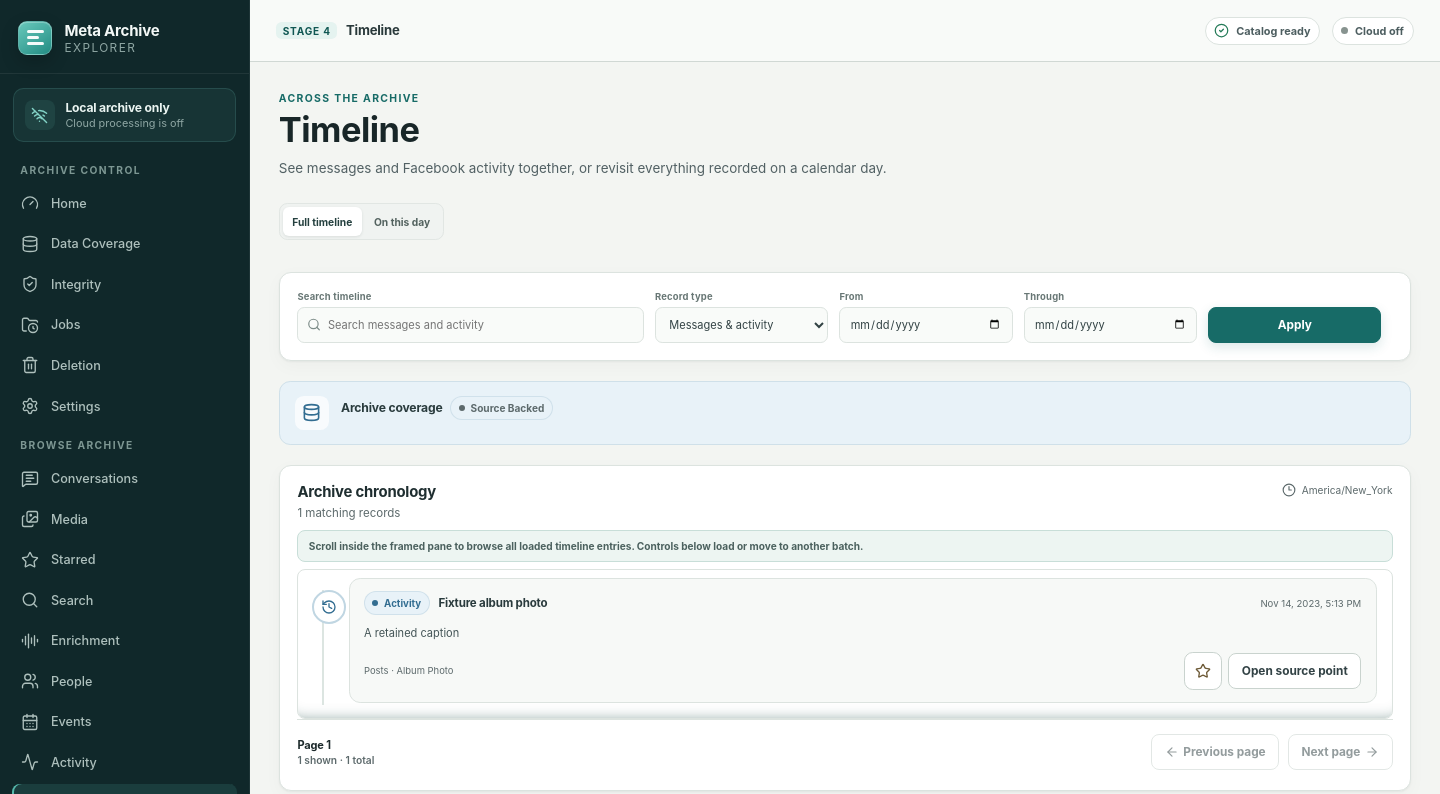
Scenario: Stage 4 archive views › switches between the combined timeline and On This Day
This screenshot has width=1440, height=794.
Expected: the heading "Archive chronology" is shown, [297,483,436,501]
Expected: the text with id "timeline-results-scroll-hint" shows "Scroll inside the framed pane to browse all loaded timeline entries.", [297,530,1393,562]
Step 1. Click the button "On this day" → (402,222), box [365,207,439,236]
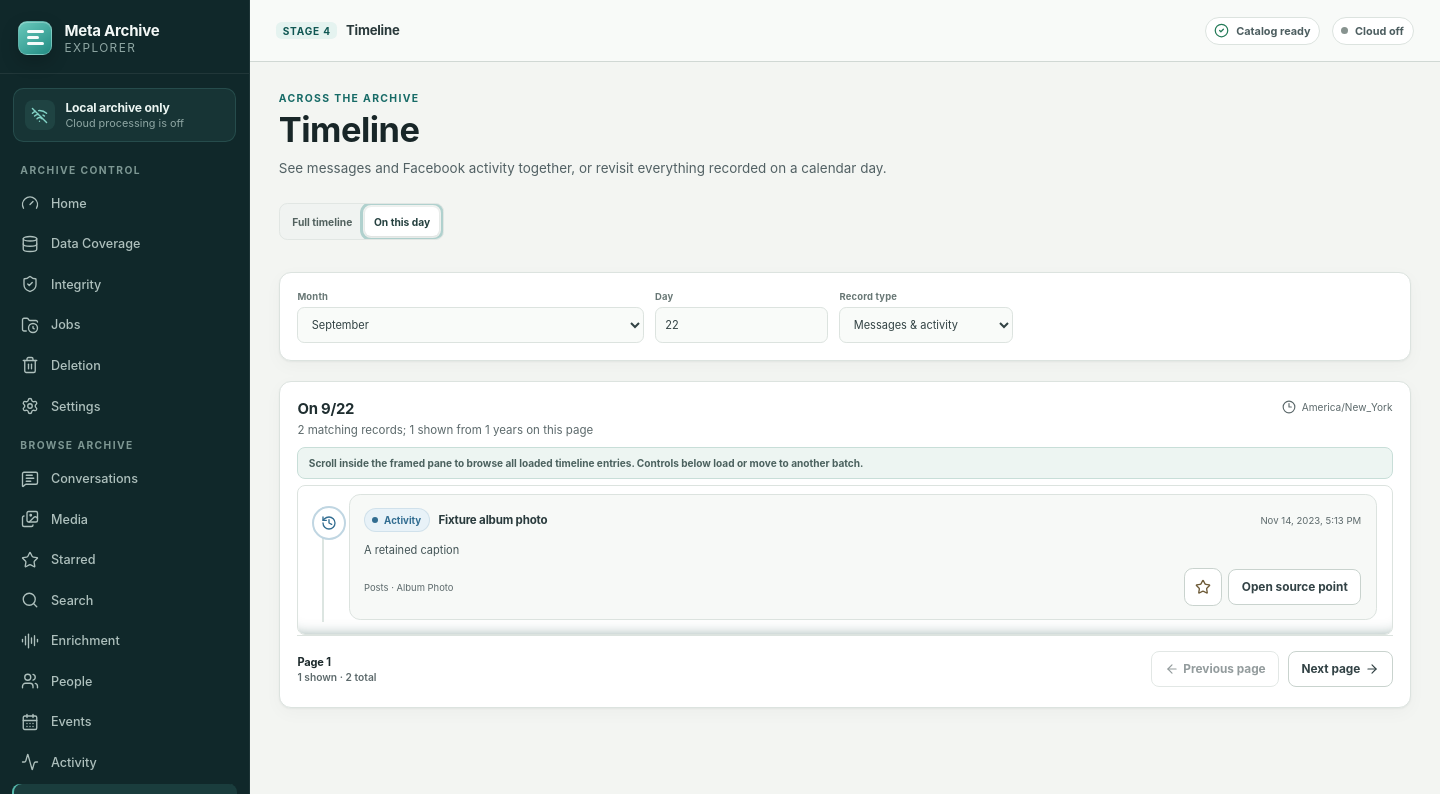
Now the text "2 matching records; 1 shown from 1 years on this page" is shown, box [297,422,593,438]
Step 2. Click the button "Next page" → (1340,669), box [1288,651,1393,687]
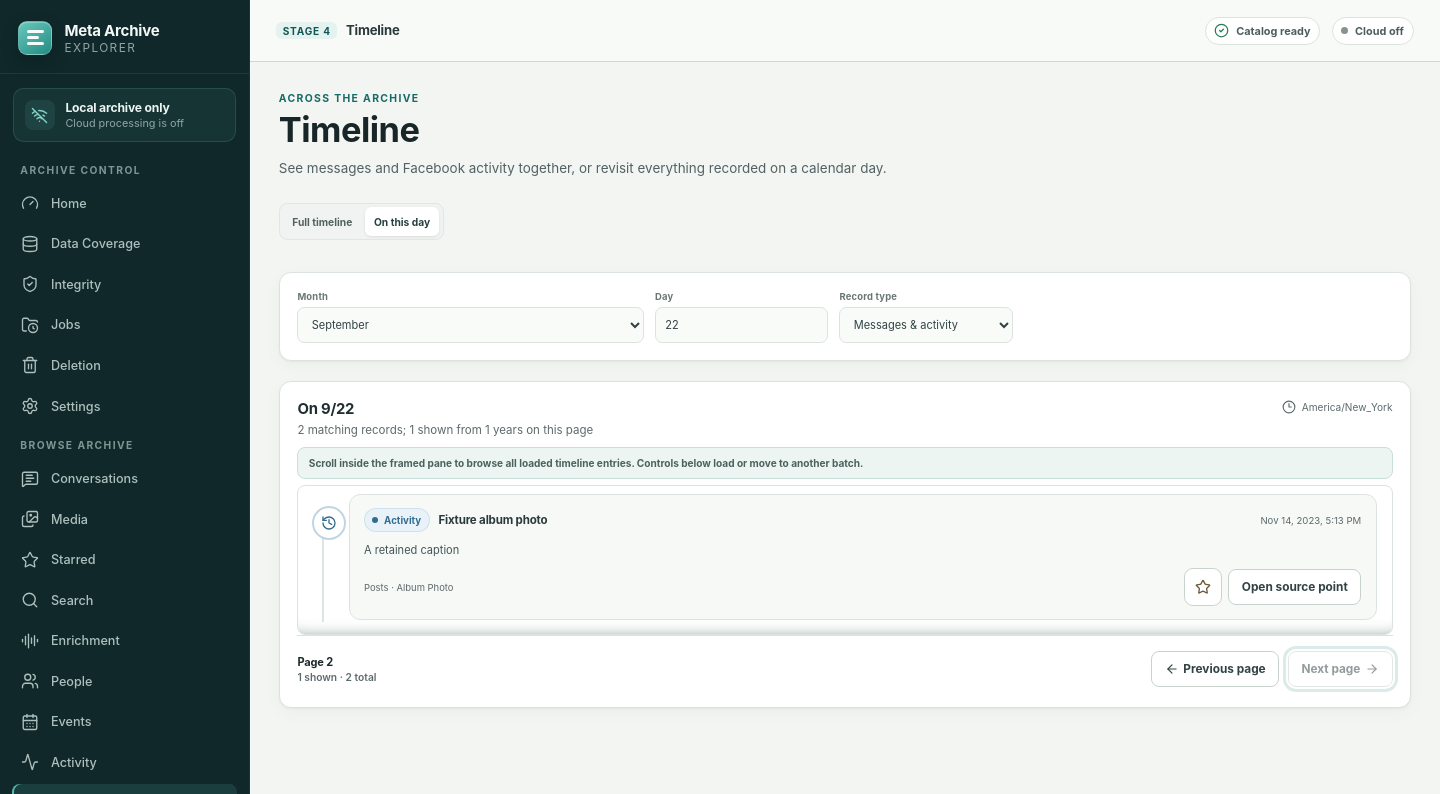
Expected: the element with id "activity-activity-two" is shown, [338,494,1377,635]
Now the text "Page 2" is shown, box [297,655,333,669]
Step 3. Click the button "Previous page" → (1215,669), box [1151,651,1279,687]
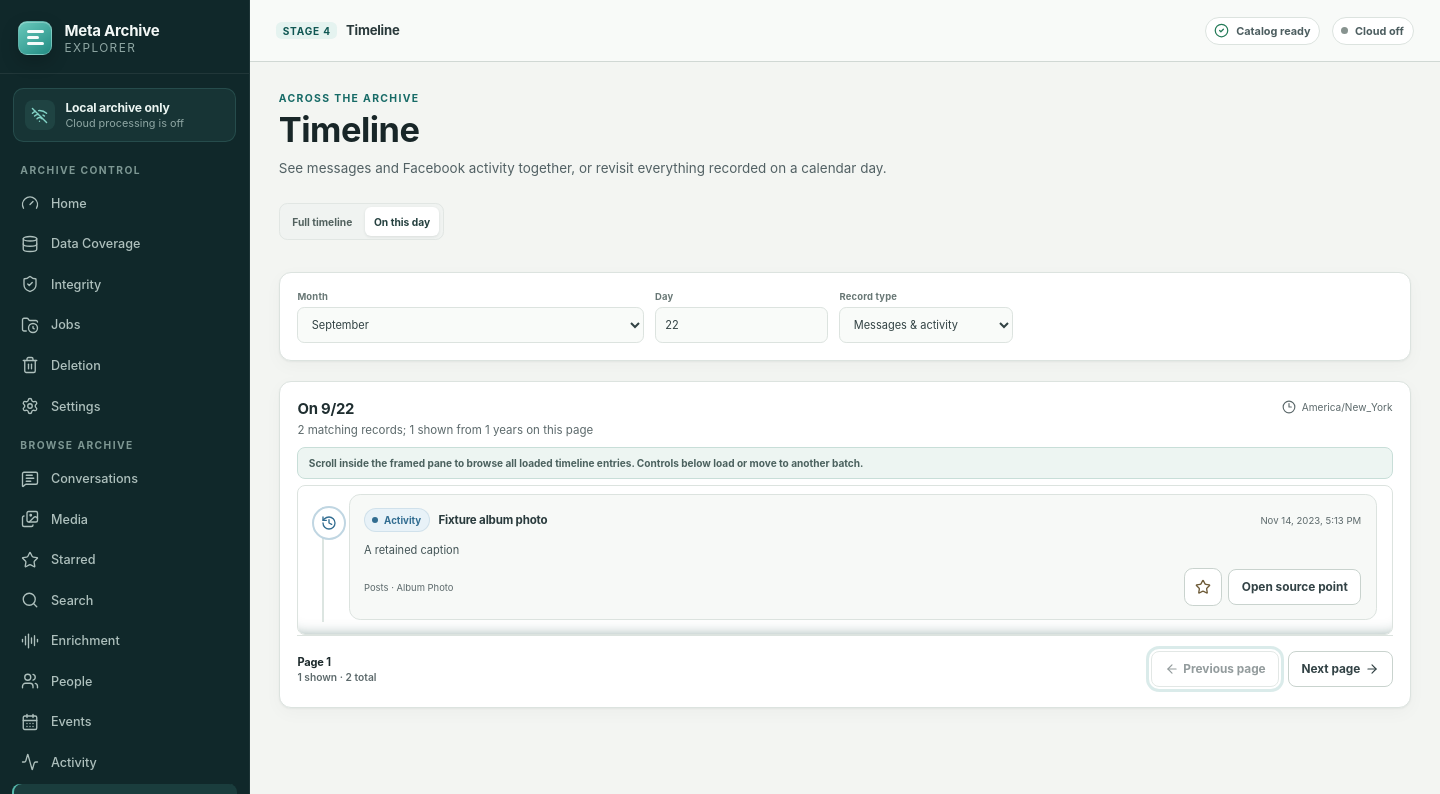
Expected: the element with id "activity-activity-one" is shown, [338,494,1377,635]
Now the text "Page 1" is shown, box [297,655,331,669]
